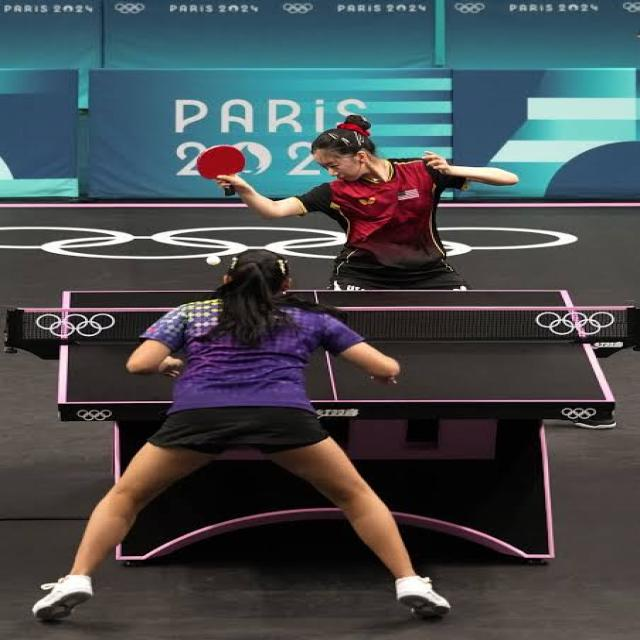TT Net: (6, 304, 639, 350)
TT Racket: (184, 140, 252, 184)
TT Table: (56, 289, 613, 403)
